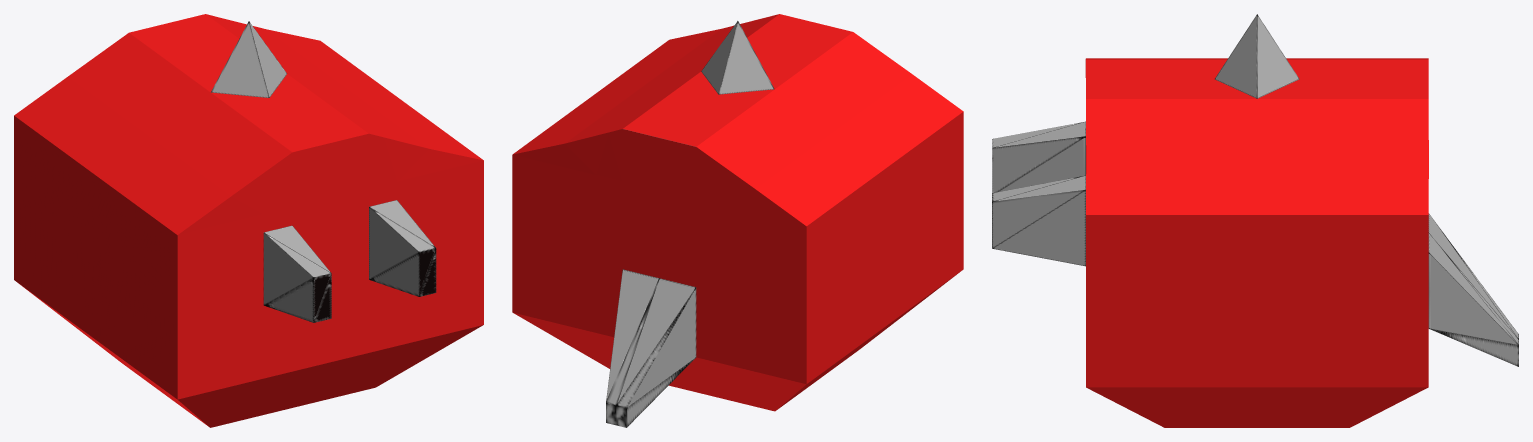
File: RedPlayer.obj
3 views of the same model, side by side, from view 1: azimuth 30°, elevation 25°; view 2: azimuth 150°, elevation 25°; view 3: azimuth 270°, elevation 25° (orthographic). The views are drawn at different scales.
Visible parts, largest first — view 1: 体; view 2: 体; view 3: 体.
Part boxes in pixels (x1,y1,x2,y2): 体: (14,14,483,427); 体: (512,14,963,427); 体: (992,14,1518,427).
Bounding box in the file's own units: 0.8151 × 0.9013 × 1.16.
Materials: 1 (1 with a texture image).
